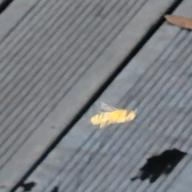Bee: (66, 96, 156, 136)
